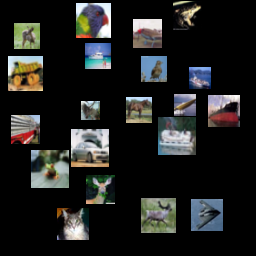airplane: (191, 199, 223, 231), (133, 19, 162, 48)
automobile: (71, 129, 109, 167)
bird: (76, 3, 111, 38), (141, 56, 167, 82)
cat: (57, 208, 89, 240)
deer: (141, 198, 176, 233), (86, 175, 115, 204), (14, 23, 40, 49), (81, 101, 100, 120)
frog: (31, 150, 69, 188), (173, 1, 202, 30)
ship: (158, 117, 196, 155), (208, 95, 240, 127), (85, 43, 111, 69), (189, 67, 211, 89), (174, 94, 196, 116)
